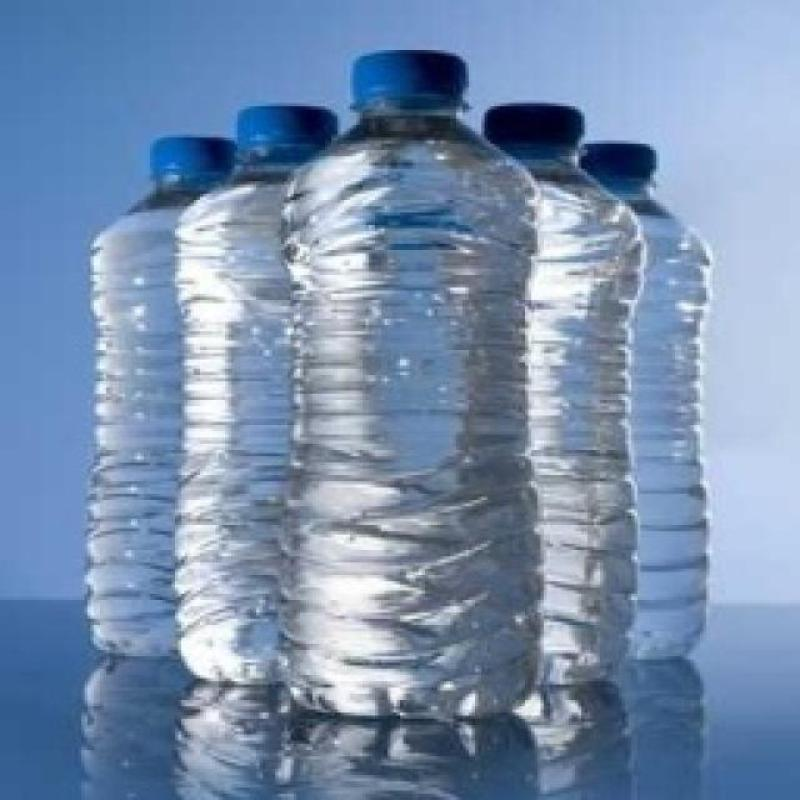botella: (288, 56, 538, 722), (175, 100, 323, 685), (485, 98, 626, 702), (95, 117, 233, 671), (584, 140, 714, 659)
